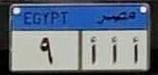9: (38, 35, 55, 65)
alif: (86, 34, 99, 66), (131, 37, 140, 68), (111, 35, 119, 64)
